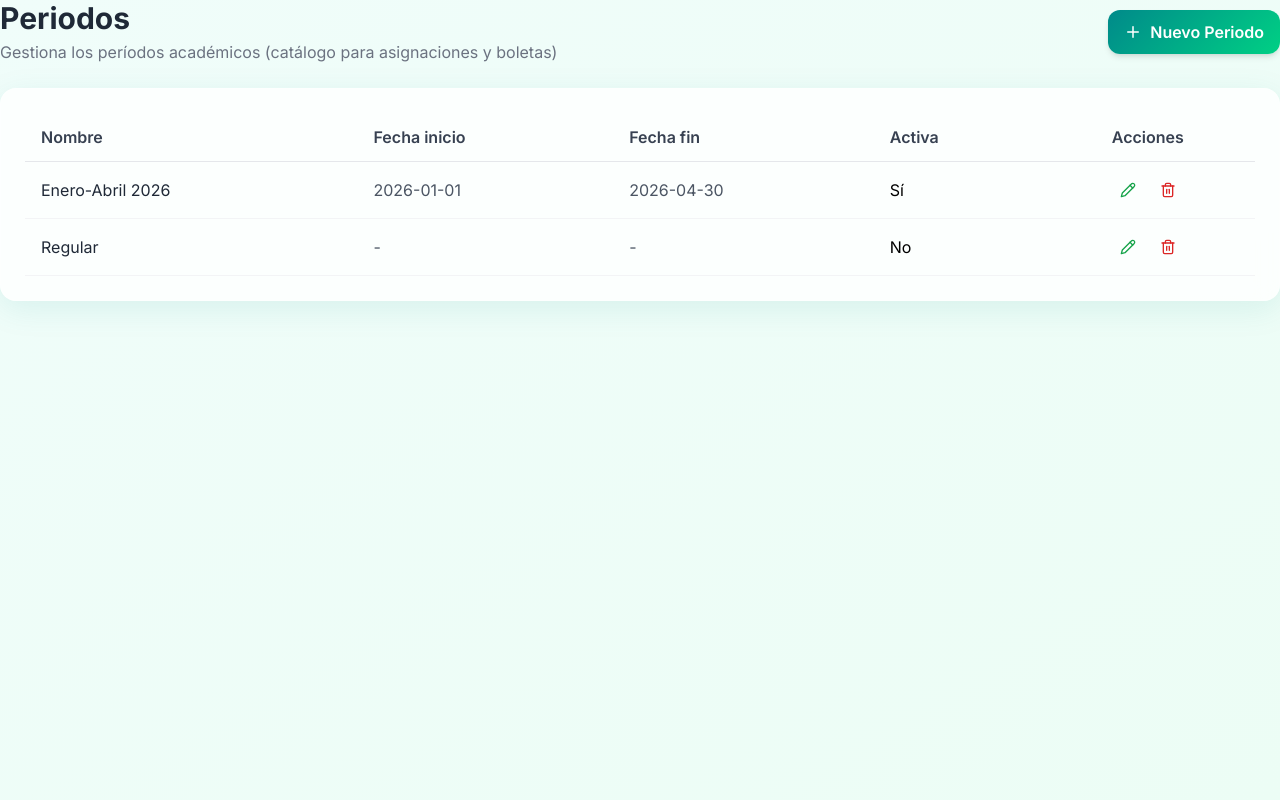
Test: Periodos CRUD › editar abre modal con valores precargados
Check: the text "Enero-Abril 2026" is shown, box [25,162,358,218]
Click the button titled "Editar" in the row of "Enero-Abril 2026" at (1128, 190), box [1112,174,1144,206]
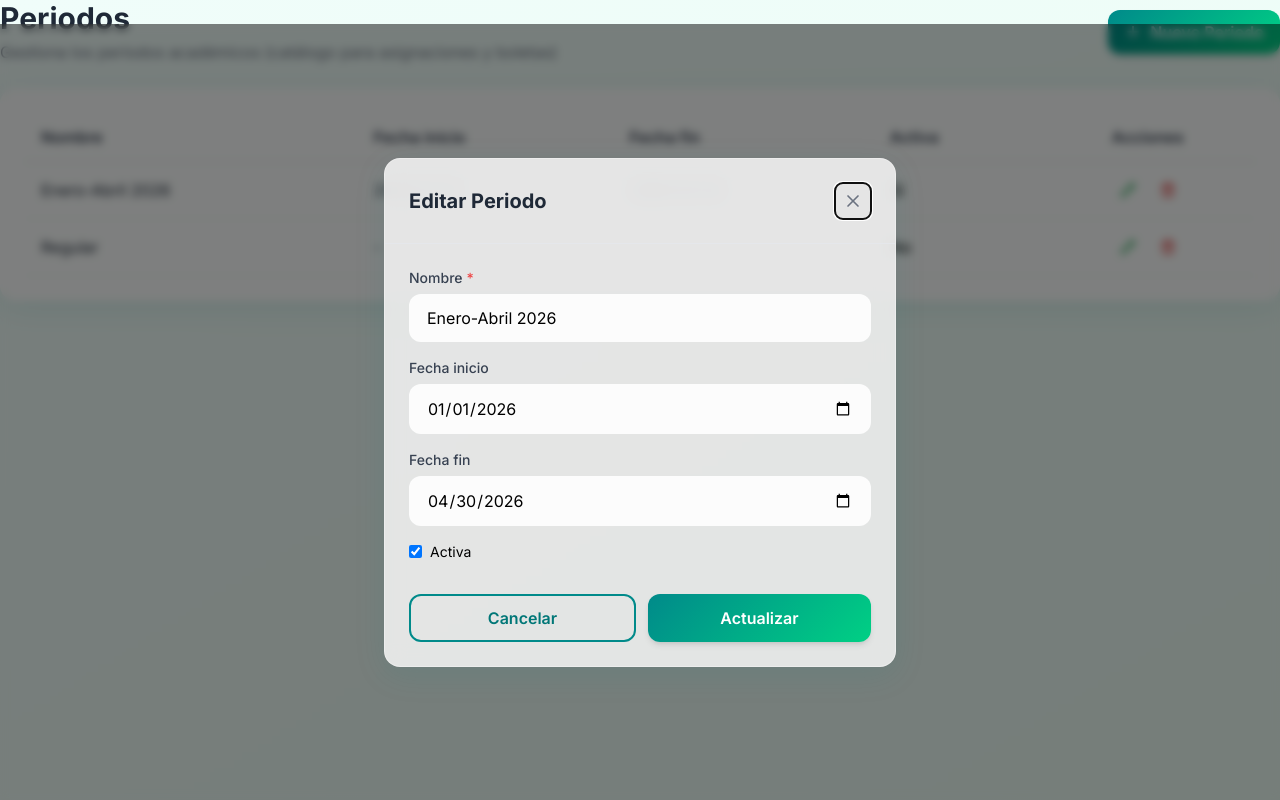
Check: the heading "Editar Periodo" is shown, box [409,186,547,214]
Check: the field labelled "Nombre*" holds "Enero-Abril 2026", box [409,294,871,342]
Check: the date field labelled "Fecha inicio" holds "2026-01-01", box [409,384,871,434]
